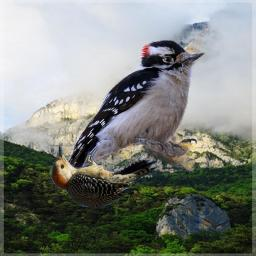Woodpecker: (58, 40, 206, 183), (42, 140, 164, 209)
